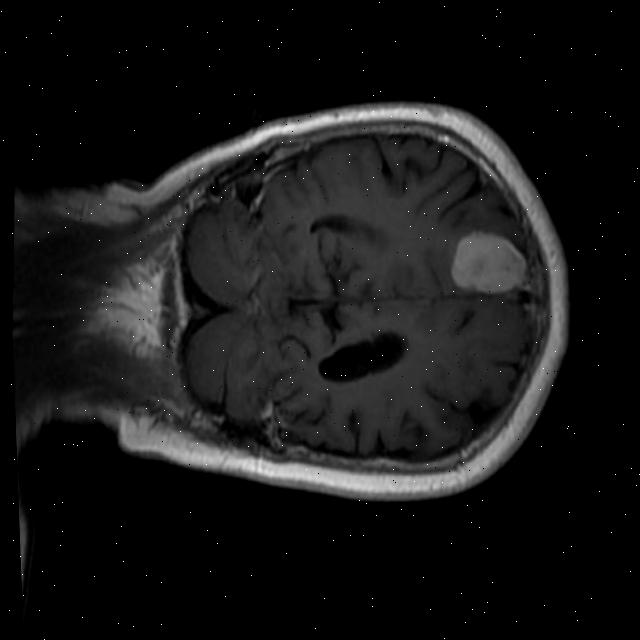Meningioma: (445, 225, 531, 300)
